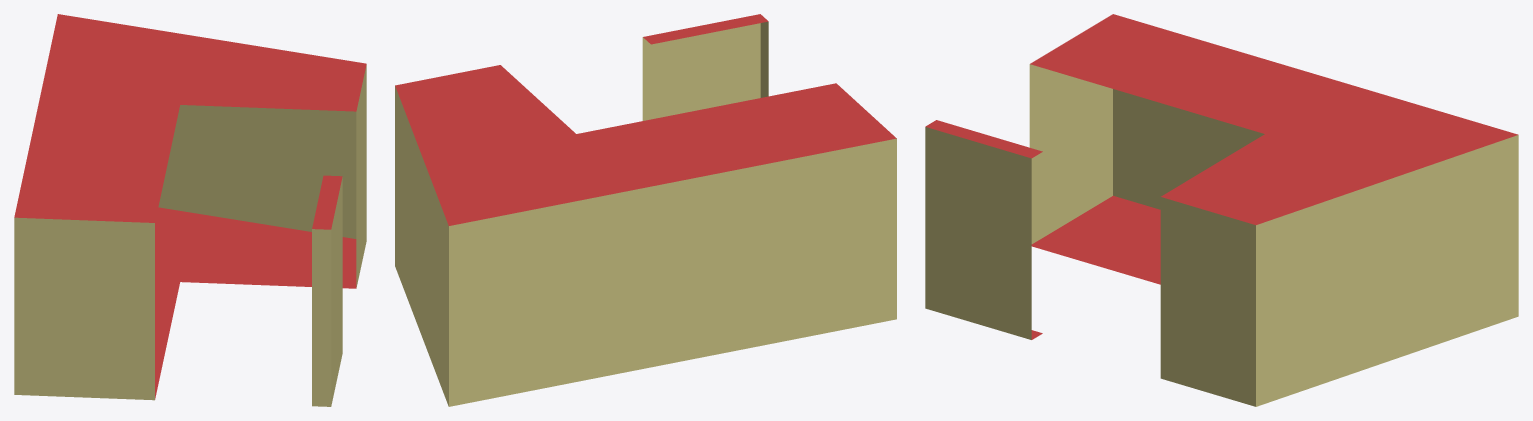
3 renders of one model, left to right at view 1: azimuth 30°, elevation 25°; view 2: azimuth 150°, elevation 25°; view 3: azimuth 270°, elevation 25°, orthographic. The views are drawn at different scales.
Size of the model in its own units: 12.67 by 15.05 by 5.08.
